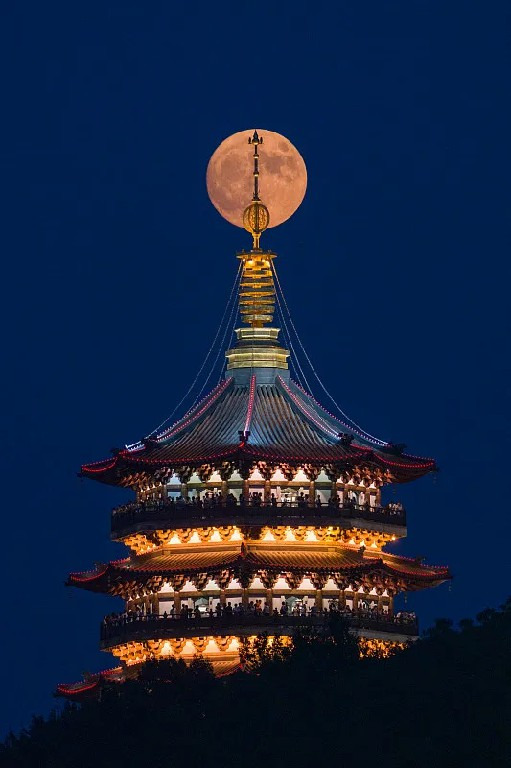Leifeng: (53, 127, 457, 705)
